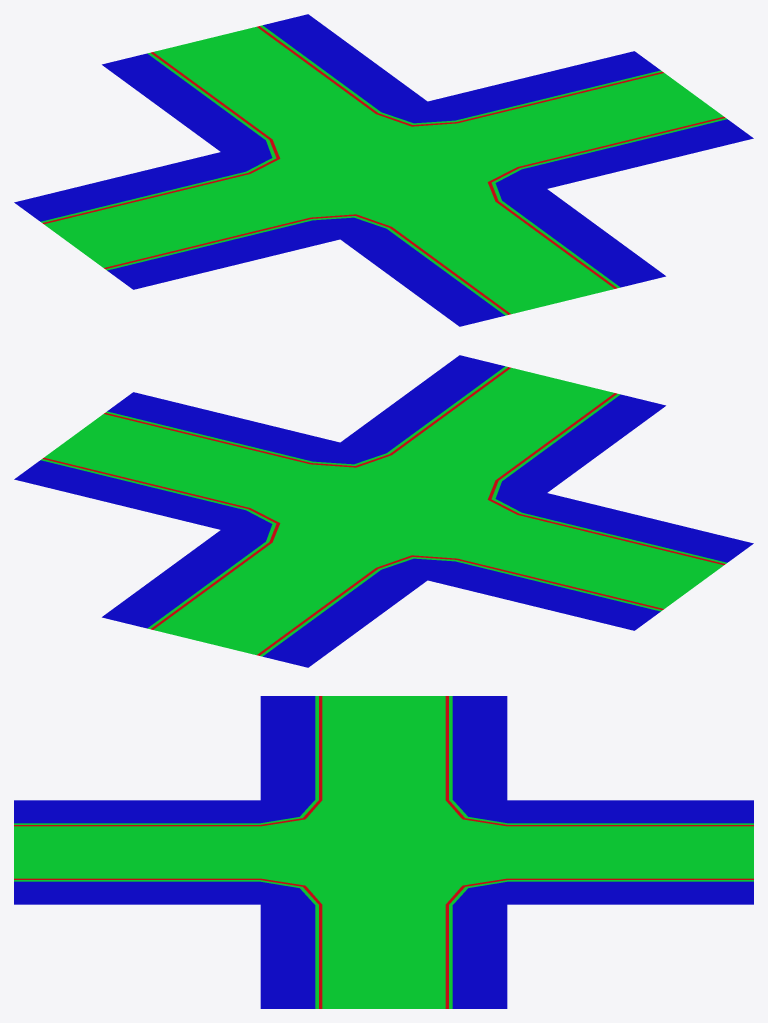
Rendered from thin_4way.fbx.
3 renders of one model, top to bottom at view 1: azimuth 30°, elevation 25°; view 2: azimuth 150°, elevation 25°; view 3: azimuth 270°, elevation 25°, orthographic. The views are drawn at different scales.
Visible parts, largest first — view 1: Plane.076; view 2: Plane.076; view 3: Plane.076.
Part boxes in pixels (left/top/right/bottom): Plane.076: left=14, top=14, right=753, bottom=326; Plane.076: left=14, top=355, right=753, bottom=667; Plane.076: left=14, top=696, right=753, bottom=1008.
Size of the model in its own units: 1200 by 0.000196 by 1200.
